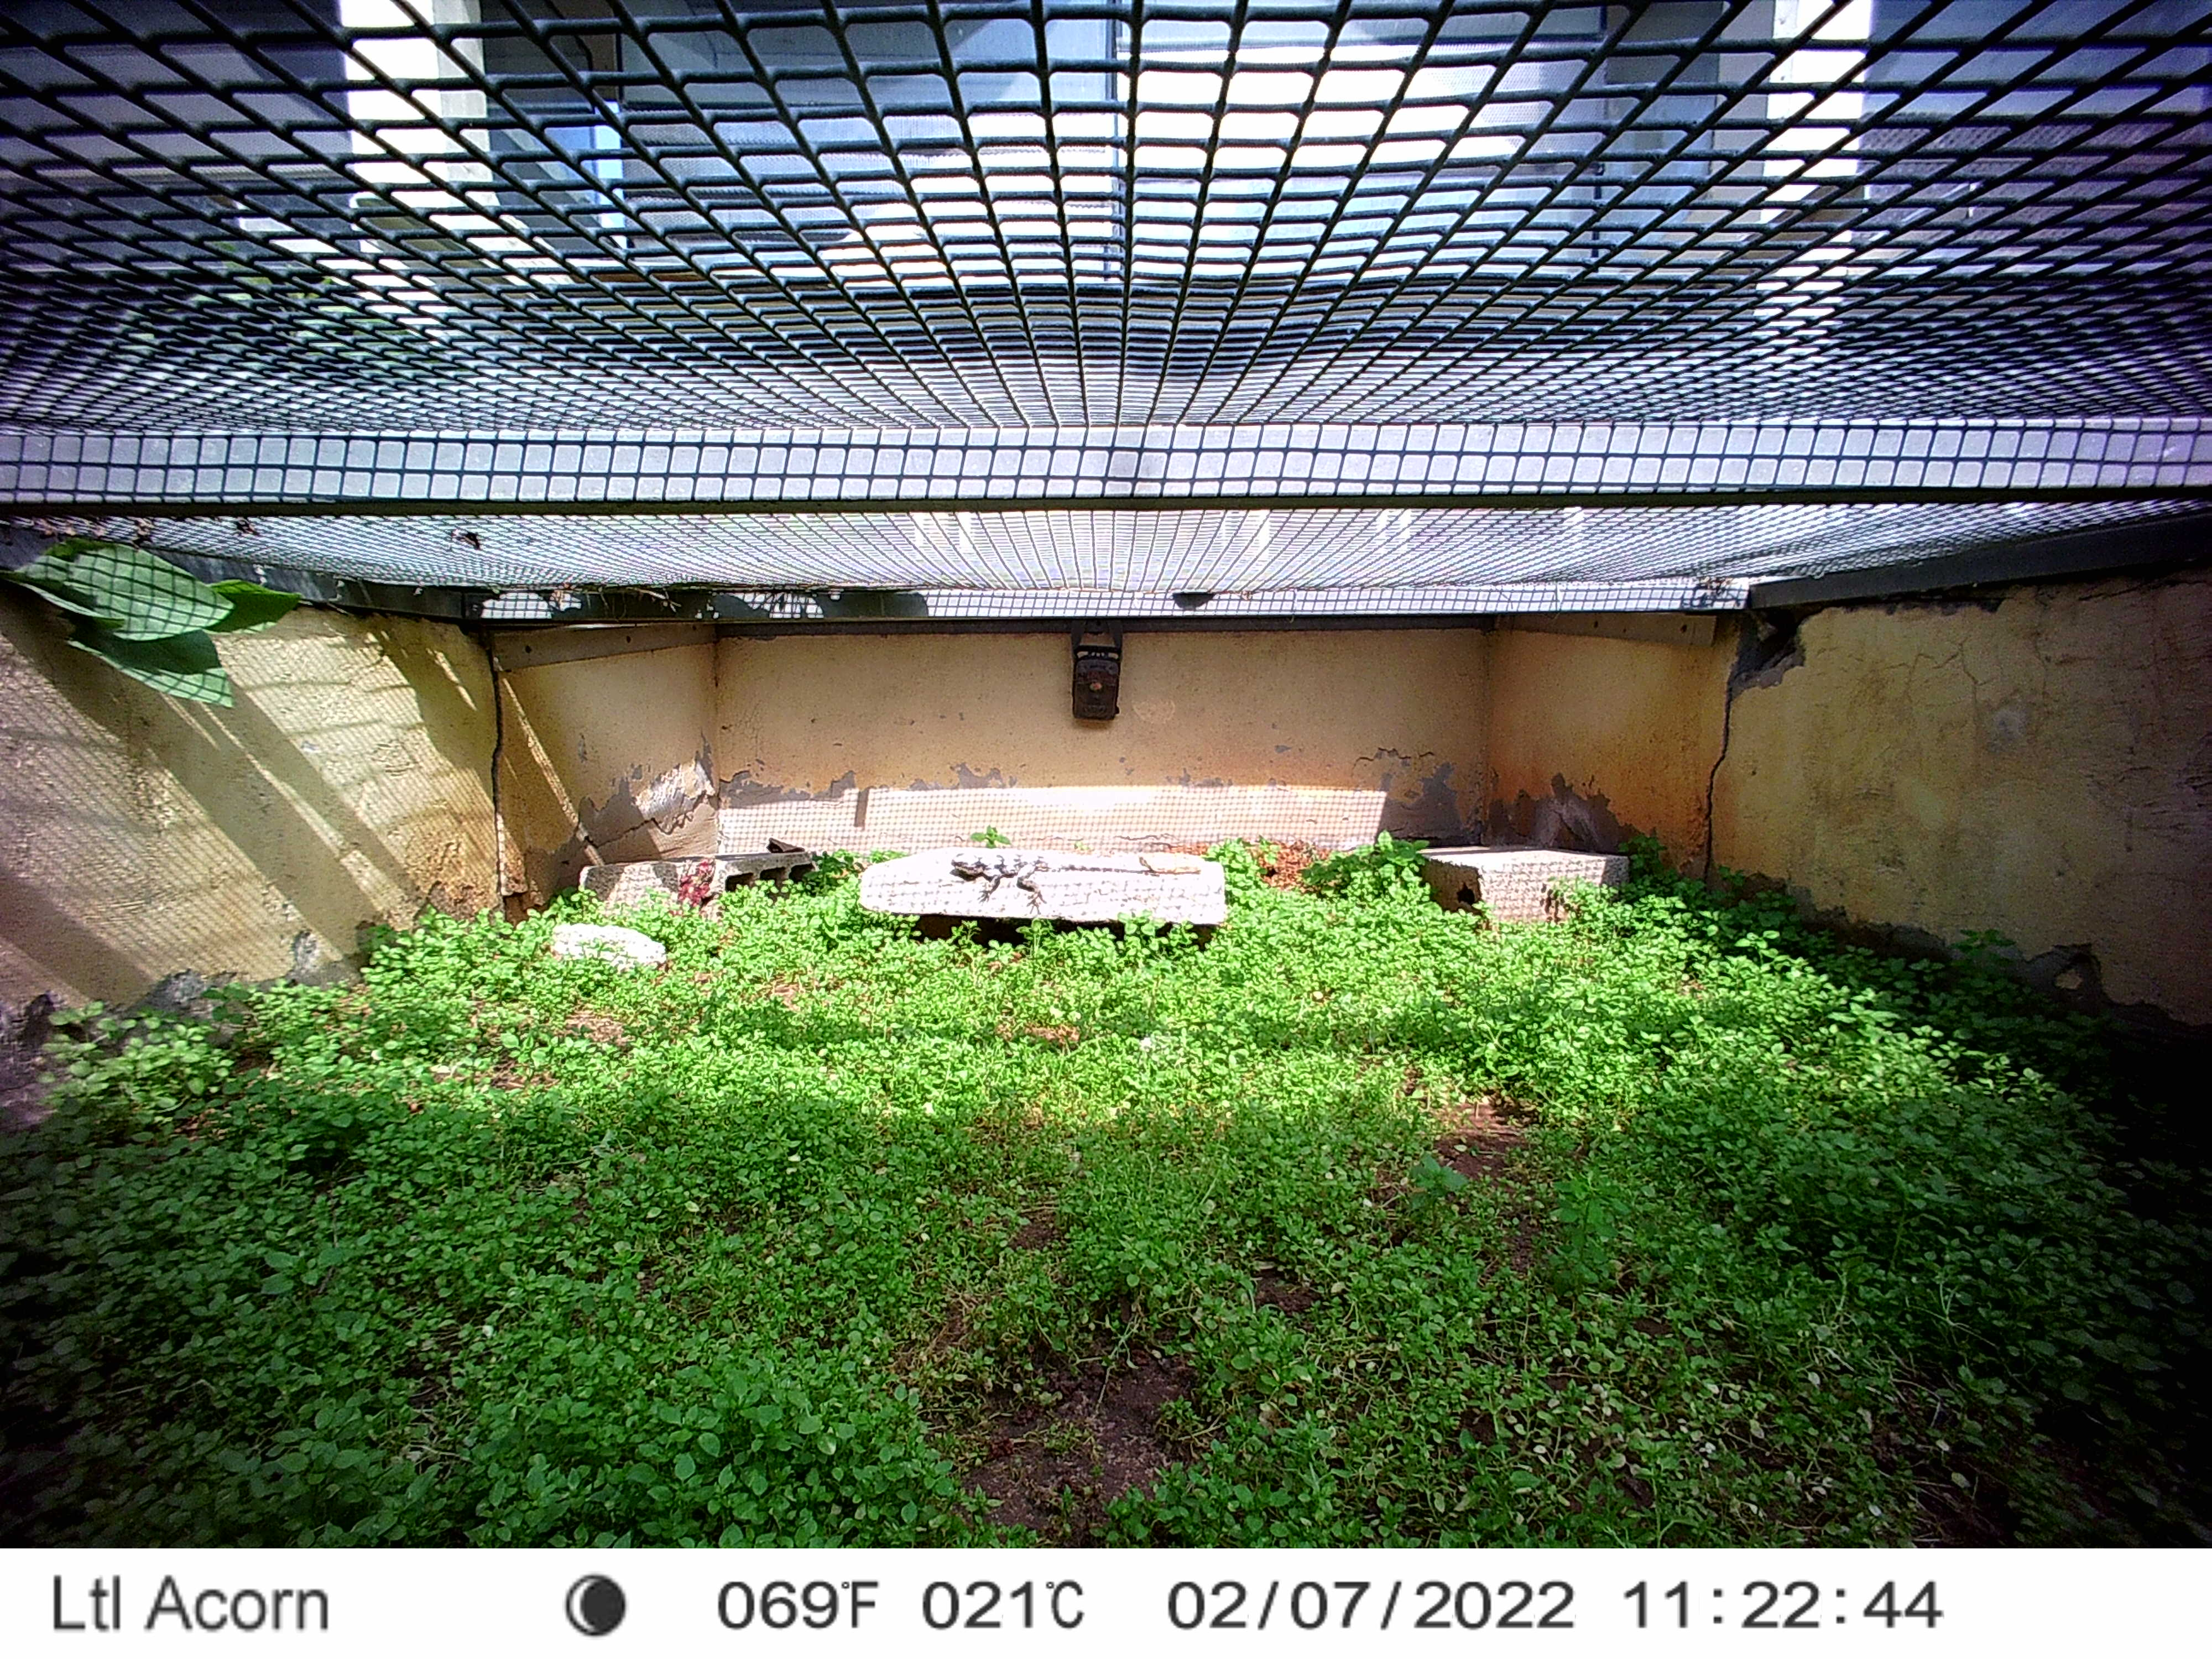lizard: (944, 850, 1212, 917), (657, 856, 737, 925)
